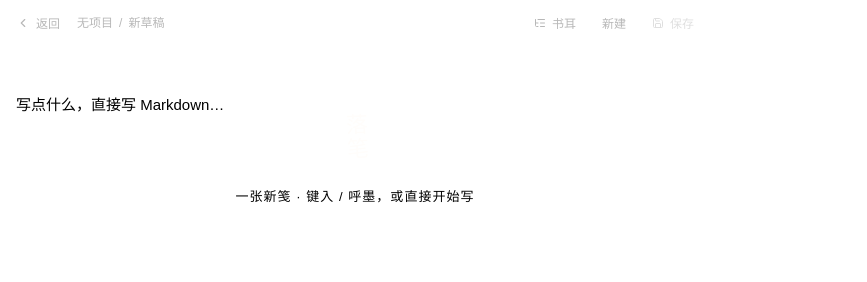
it: 编辑器上下文侧栏（右缘停靠） › 书耳钮开合浮笺（aria-pressed 同步；收起时页签离开可访问树）
The image size is (867, 282).
Click the button "书耳" at (555, 22), box [525,12,585,33]
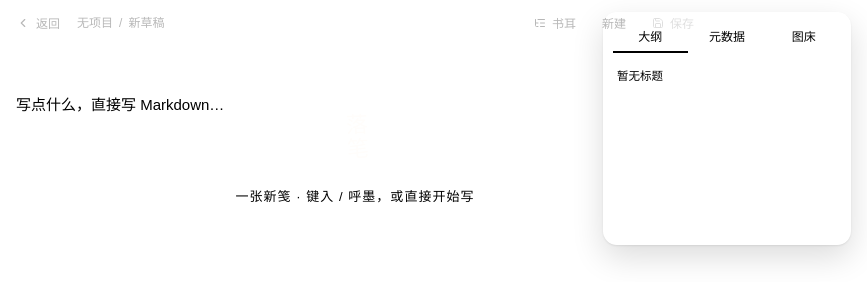
Check: the tab "大纲" is shown, box [613,22,688,53]
Click the button "书耳" at (555, 22), box [525,12,585,33]
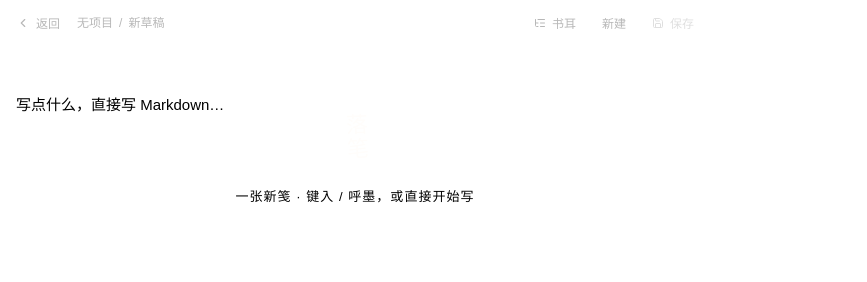
Check: the tab "大纲" is gone
